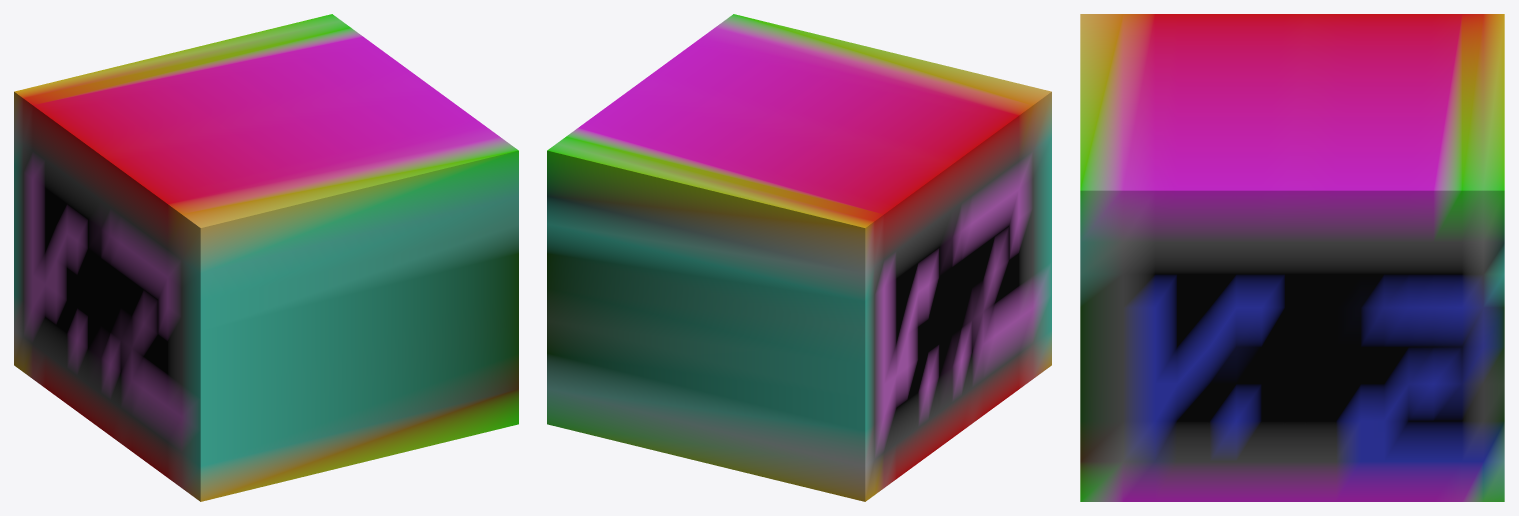
File: Signa.dae
3 views of the same model, side by side, from view 1: azimuth 30°, elevation 25°; view 2: azimuth 150°, elevation 25°; view 3: azimuth 270°, elevation 25° (orthographic). The views are drawn at different scales.
Parts seen in each view (by area): view 1: Cube; view 2: Cube; view 3: Cube.
Part boxes in pixels (left/top/right/bottom): Cube: left=14, top=14, right=518, bottom=501; Cube: left=547, top=14, right=1051, bottom=501; Cube: left=1080, top=14, right=1504, bottom=501.
Size of the model in its own units: 6.32 by 6.42 by 5.2.
